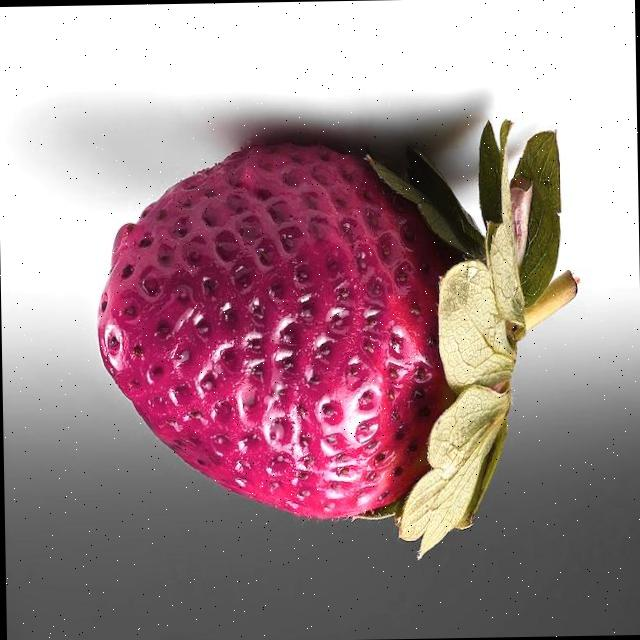strawberry: (97, 121, 575, 555)
